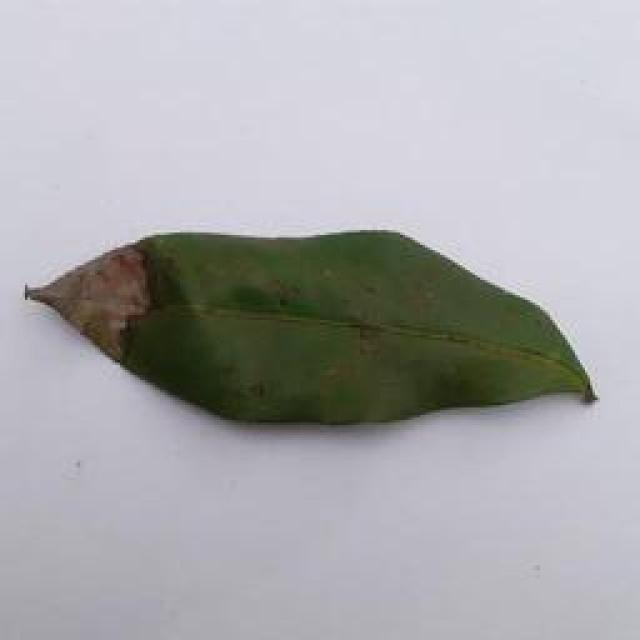Gray Blight: (12, 216, 606, 434)
